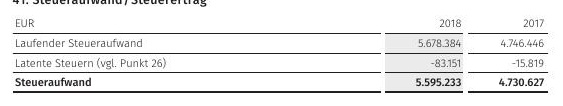table: (0, 0, 563, 106)
